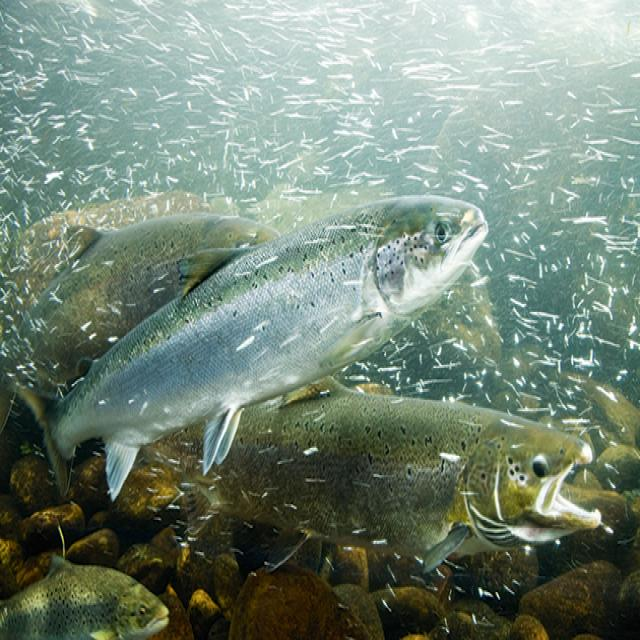grouper: (5, 177, 494, 504), (148, 387, 614, 587)
